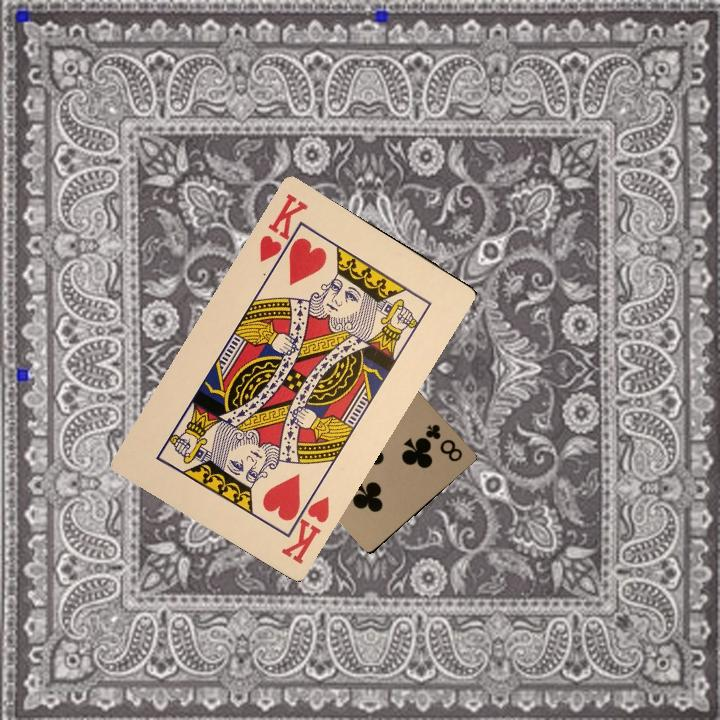8c: (421, 420, 465, 464)
Kh: (255, 189, 311, 272), (277, 484, 333, 567)
